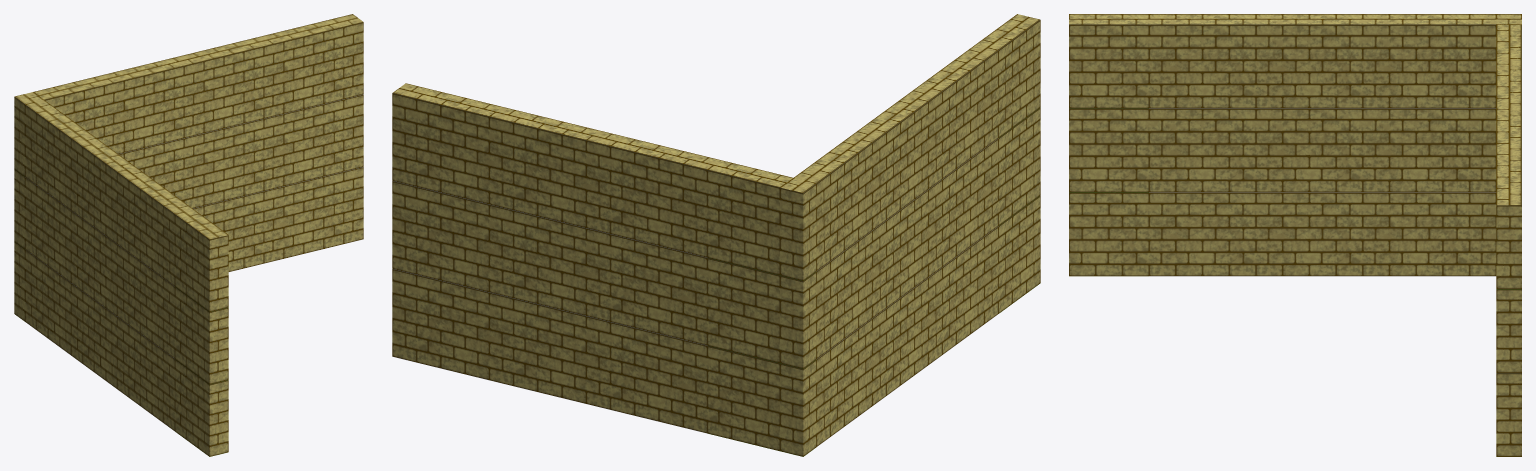
Rendered from MuroCurva.fbx.
The picture shows the model from 3 angles, left to right: view 1: azimuth 30°, elevation 25°; view 2: azimuth 150°, elevation 25°; view 3: azimuth 270°, elevation 25°; orthographic projection. The views are drawn at different scales.
Parts seen in each view (by area): view 1: MuroCurva; view 2: MuroCurva; view 3: MuroCurva.
Boxes of the visible parts, x1,y1,x2,y2 form: MuroCurva: (14,14,363,456); MuroCurva: (392,14,1040,456); MuroCurva: (1069,14,1521,456).
Bounding box in the file's own units: 954 × 585 × 954.
